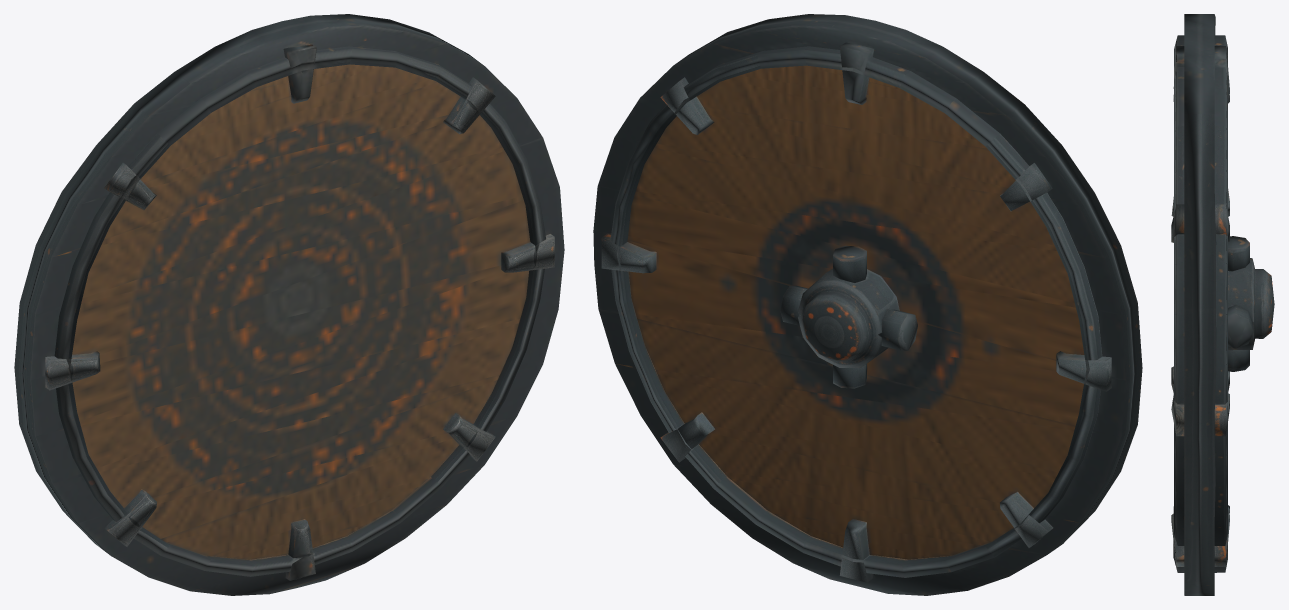
The model's file is shield_meshy.glb.
The picture shows the model from 3 angles, left to right: view 1: azimuth 30°, elevation 25°; view 2: azimuth 150°, elevation 25°; view 3: azimuth 270°, elevation 25°; orthographic projection. The views are drawn at different scales.
Size of the model in its own units: 0.9575 by 0.9526 by 0.1689.
1 material, 1 textured.
